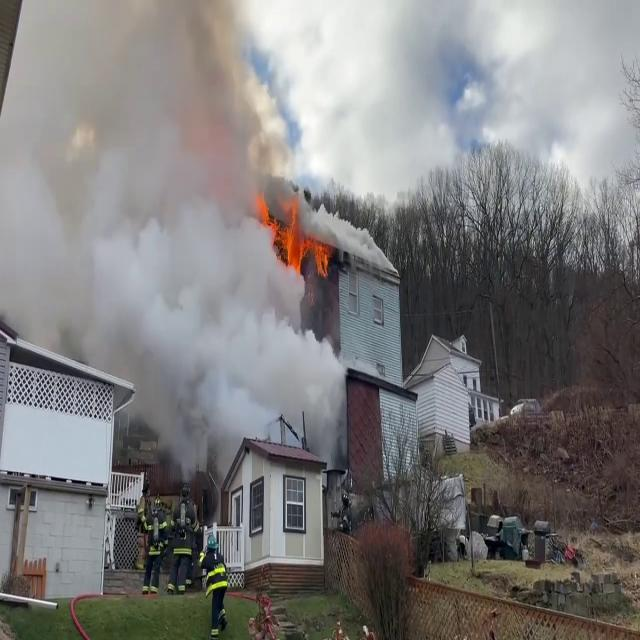Fire: (269, 195, 335, 278)
Smoke: (0, 0, 347, 464)
